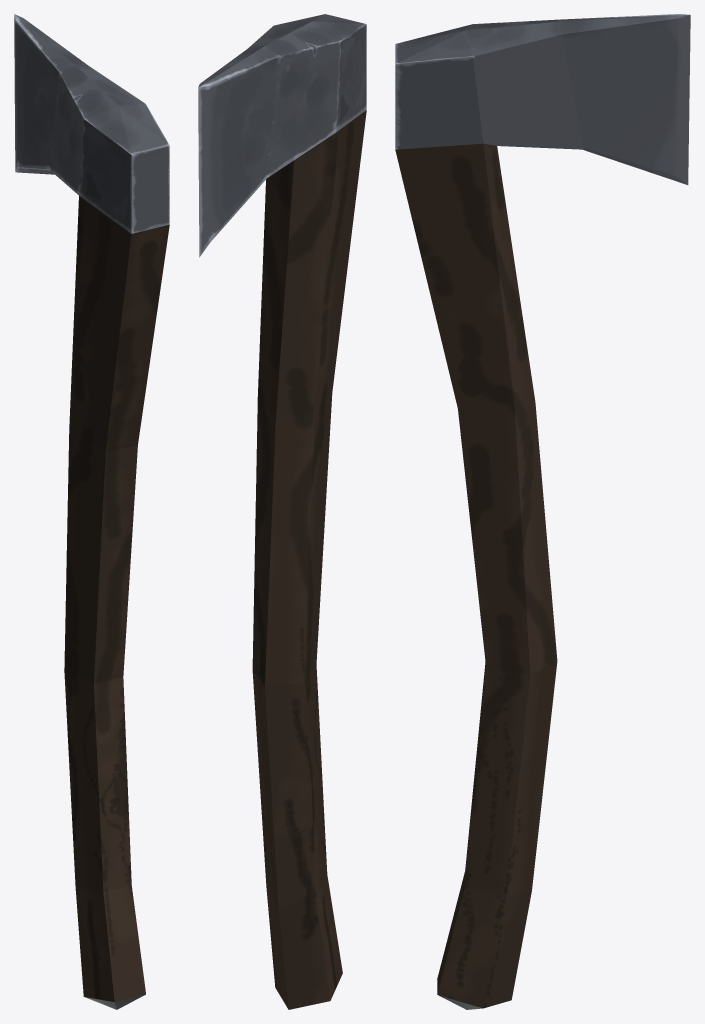
The model's file is Axe 1.fbx.
The picture shows the model from 3 angles, left to right: view 1: azimuth 30°, elevation 25°; view 2: azimuth 150°, elevation 25°; view 3: azimuth 270°, elevation 25°; orthographic projection. The views are drawn at different scales.
Parts seen in each view (by area): view 1: Cube; view 2: Cube; view 3: Cube.
Boxes of the visible parts, x1,y1,x2,y2 form: Cube: [14, 14, 169, 1009]; Cube: [198, 14, 366, 1009]; Cube: [395, 14, 690, 1009].
Size of the model in its own units: 13.67 by 194 by 52.23.
